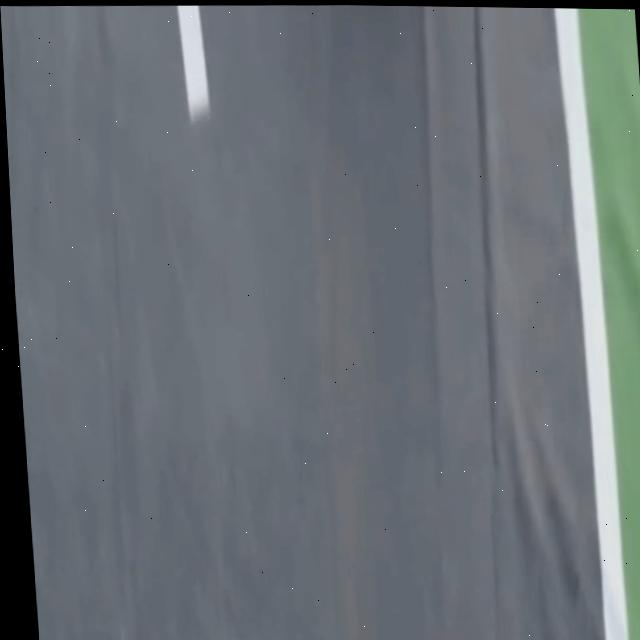center: (176, 5, 209, 121)
right: (553, 8, 627, 640)
